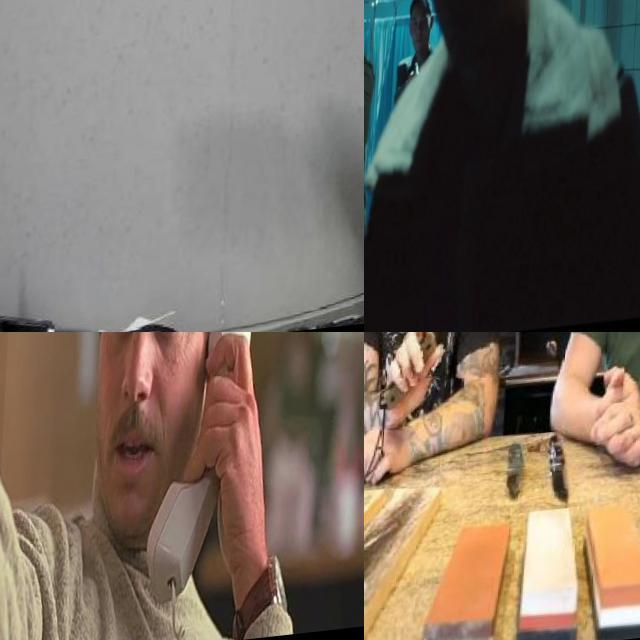-: (145, 0, 364, 70), (403, 332, 503, 399)
gun-knife-thesis - v11 Yolov5 augmented: (0, 332, 94, 601), (364, 103, 380, 156)
